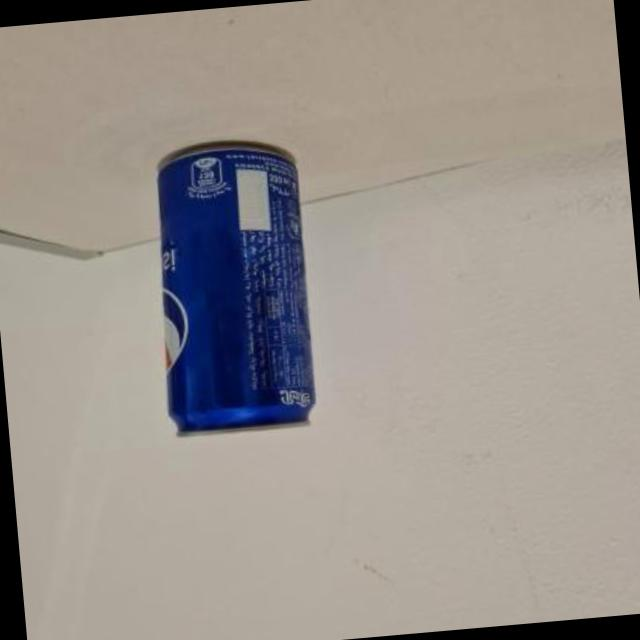metal: (156, 149, 311, 436)
